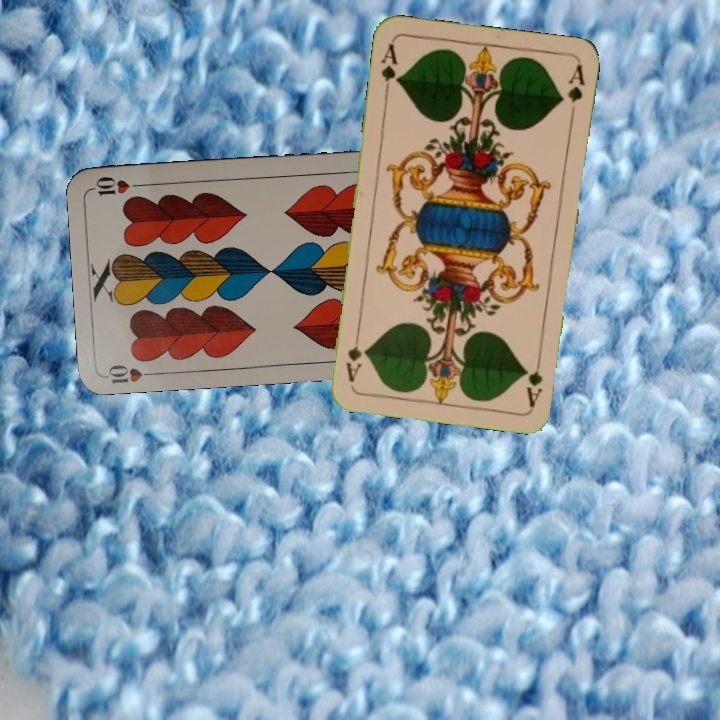GA: (377, 40, 402, 98), (523, 350, 545, 409)
H10: (103, 360, 162, 386)
